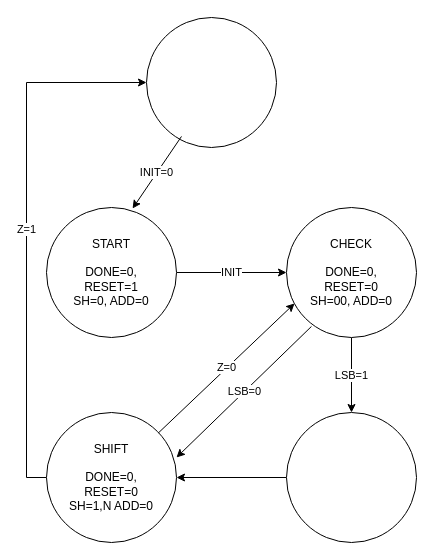
The diagram is 434 pixels wide and 560 high, and some of its shapes have lost their labels. Each missing label, with the centre of its shape:
"ADD DONE=0, RESET=0 SH=0, ADD=1" goes at point (351, 477).
"END1 DONE=1, RESET=0 SH=0, ADD=0" goes at point (211, 82).
